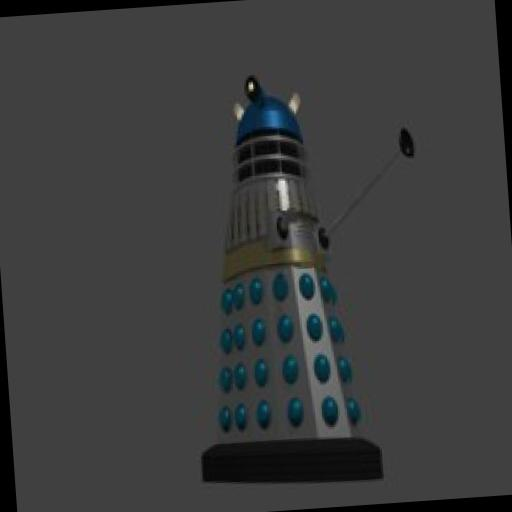dalek: (173, 69, 440, 494)
